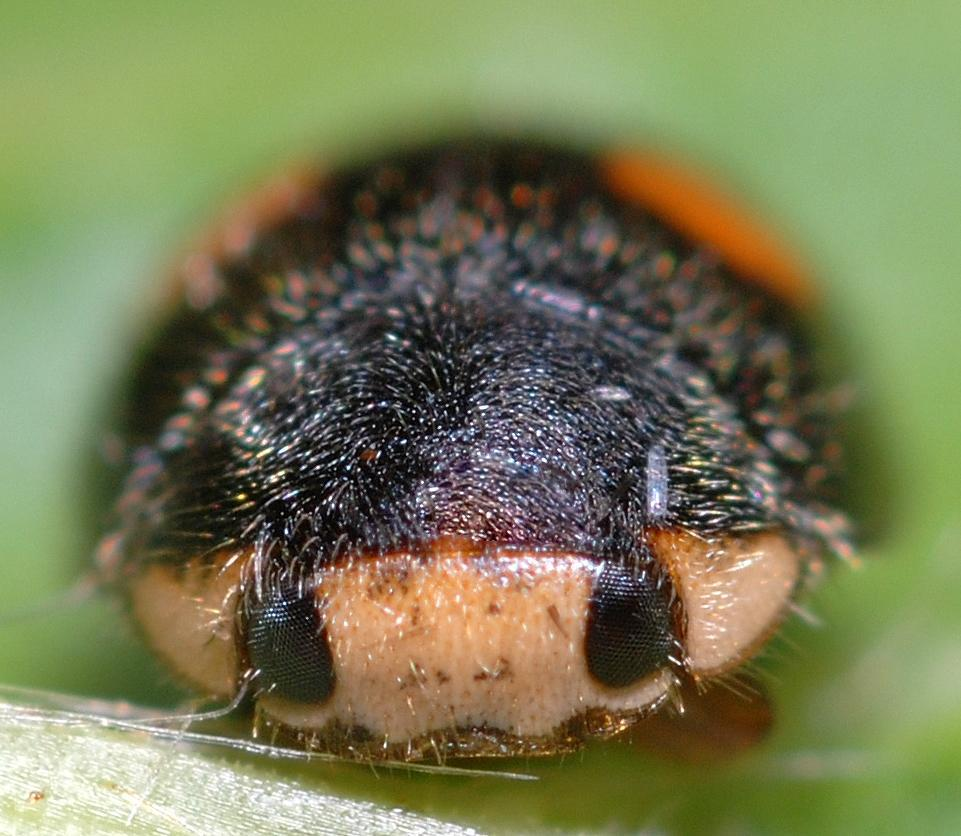ladybug: (64, 114, 884, 771)
